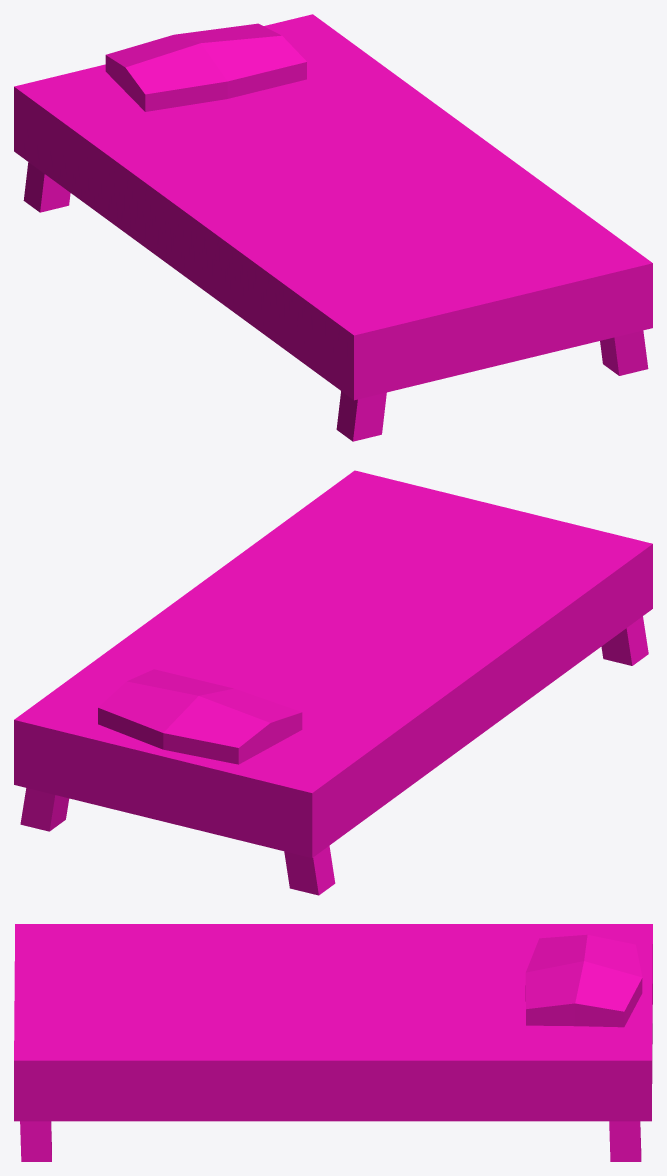
The model's file is study_bed_2_meshCollider.fbx.
The picture shows the model from 3 angles, top to bottom: view 1: azimuth 30°, elevation 25°; view 2: azimuth 150°, elevation 25°; view 3: azimuth 270°, elevation 25°; orthographic projection. The views are drawn at different scales.
Visible parts, largest first — view 1: study_bed_2_meshCollider, study_bed_2_pillow_meshCollider; view 2: study_bed_2_meshCollider, study_bed_2_pillow_meshCollider; view 3: study_bed_2_meshCollider, study_bed_2_pillow_meshCollider.
Part boxes in pixels (x1,y1,x2,y2): study_bed_2_meshCollider: (14, 14, 652, 441); study_bed_2_pillow_meshCollider: (105, 23, 306, 111); study_bed_2_meshCollider: (14, 470, 652, 895); study_bed_2_pillow_meshCollider: (98, 669, 302, 764); study_bed_2_meshCollider: (14, 924, 652, 1161); study_bed_2_pillow_meshCollider: (525, 934, 642, 1027).
Size of the model in its own units: 69.03 by 31.45 by 137.
